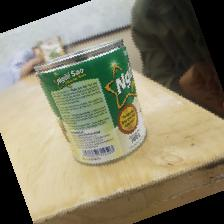NSPN_Lon: (34, 39, 148, 165)
